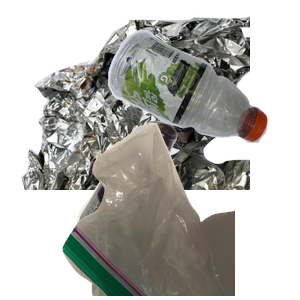glass: (74, 120, 244, 300)
metal: (19, 14, 259, 194)
plastic: (105, 27, 300, 162)
trash: (60, 120, 300, 300)
